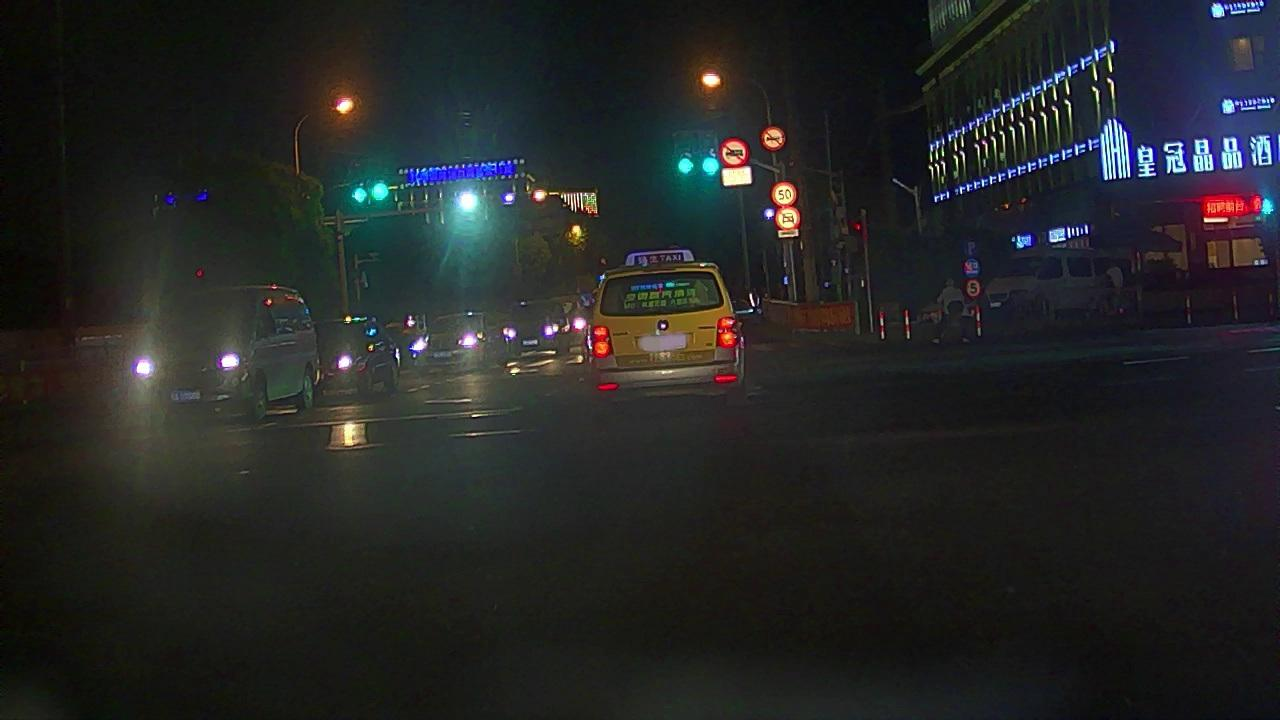traffic_light: (699, 150, 721, 182), (675, 152, 696, 181), (368, 179, 389, 204), (347, 185, 371, 206)
